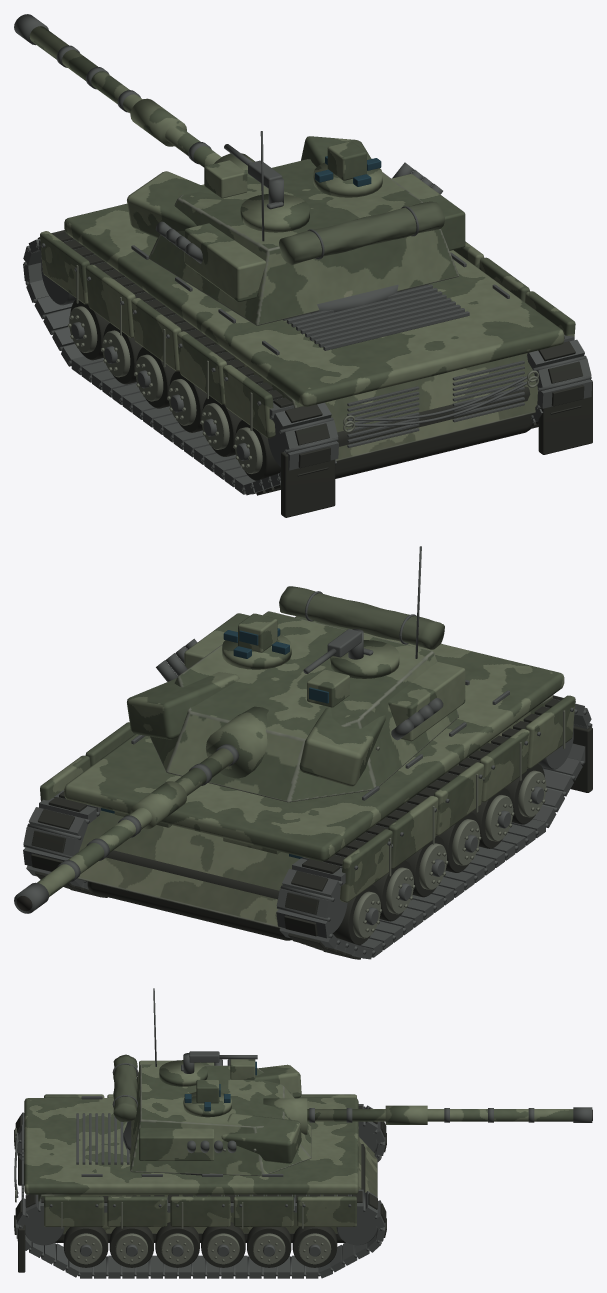
The model's file is tank_v5_articulated.glb.
The picture shows the model from 3 angles, top to bottom: view 1: azimuth 30°, elevation 25°; view 2: azimuth 150°, elevation 25°; view 3: azimuth 270°, elevation 25°; orthographic projection. The views are drawn at different scales.
Parts seen in each view (by area): view 1: Chassis_Geometry, Turret_Geometry, Barrel_Geometry, Wheel_L_0, Wheel_L_2, Wheel_L_1, Wheel_L_5, Wheel_L_4, Wheel_L_3, Track_L_49, Track_R_49, Track_L_48 (+3 smaller); view 2: Chassis_Geometry, Turret_Geometry, Barrel_Geometry, Mantlet_Geometry, Wheel_L_5, Wheel_L_0, Wheel_L_2, Wheel_L_3, Wheel_L_4, Wheel_L_1, Track_L_23, Track_R_23 (+7 smaller); view 3: Chassis_Geometry, Turret_Geometry, Barrel_Geometry, Wheel_R_2, Wheel_R_3, Wheel_R_5, Wheel_R_0, Wheel_R_4, Wheel_R_1, Guide_R_1, Mantlet_Geometry, Guide_R_0.
Boxes of the visible parts, bbox=[...] form: Chassis_Geometry: bbox=[40, 203, 592, 517]; Turret_Geometry: bbox=[127, 131, 465, 325]; Barrel_Geometry: bbox=[14, 14, 221, 167]; Wheel_L_0: bbox=[233, 420, 280, 480]; Wheel_L_2: bbox=[167, 371, 206, 432]; Wheel_L_1: bbox=[200, 395, 241, 456]; Wheel_L_5: bbox=[68, 299, 109, 360]; Wheel_L_4: bbox=[101, 323, 142, 384]; Wheel_L_3: bbox=[134, 347, 175, 408]; Track_L_49: bbox=[281, 420, 338, 453]; Track_R_49: bbox=[534, 358, 591, 391]; Track_L_48: bbox=[272, 402, 333, 433]; Chassis_Geometry: bbox=[40, 616, 592, 940]; Turret_Geometry: bbox=[127, 546, 465, 802]; Barrel_Geometry: bbox=[14, 744, 239, 913]; Mantlet_Geometry: bbox=[206, 706, 268, 778]; Wheel_L_5: bbox=[333, 884, 382, 945]; Wheel_L_0: bbox=[506, 763, 547, 824]; Wheel_L_2: bbox=[439, 811, 481, 872]; Wheel_L_3: bbox=[406, 835, 448, 897]; Wheel_L_4: bbox=[373, 860, 415, 921]; Wheel_L_1: bbox=[473, 787, 514, 848]; Track_L_23: bbox=[276, 885, 334, 918]; Track_R_23: bbox=[23, 823, 81, 856]; Chassis_Geometry: bbox=[14, 1094, 377, 1272]; Turret_Geometry: bbox=[112, 988, 311, 1176]; Barrel_Geometry: bbox=[307, 1105, 592, 1124]; Wheel_R_2: bbox=[155, 1222, 199, 1267]; Wheel_R_3: bbox=[201, 1222, 245, 1267]; Wheel_R_5: bbox=[292, 1227, 337, 1267]; Wheel_R_0: bbox=[63, 1227, 108, 1267]; Wheel_R_4: bbox=[247, 1227, 291, 1267]; Wheel_R_1: bbox=[109, 1227, 153, 1267]; Guide_R_1: bbox=[336, 1212, 377, 1245]; Mantlet_Geometry: bbox=[263, 1098, 307, 1134]; Guide_R_0: bbox=[25, 1212, 64, 1245].
Size of the model in its own units: 4.18 by 3.92 by 9.61.
7 materials, 1 textured.
